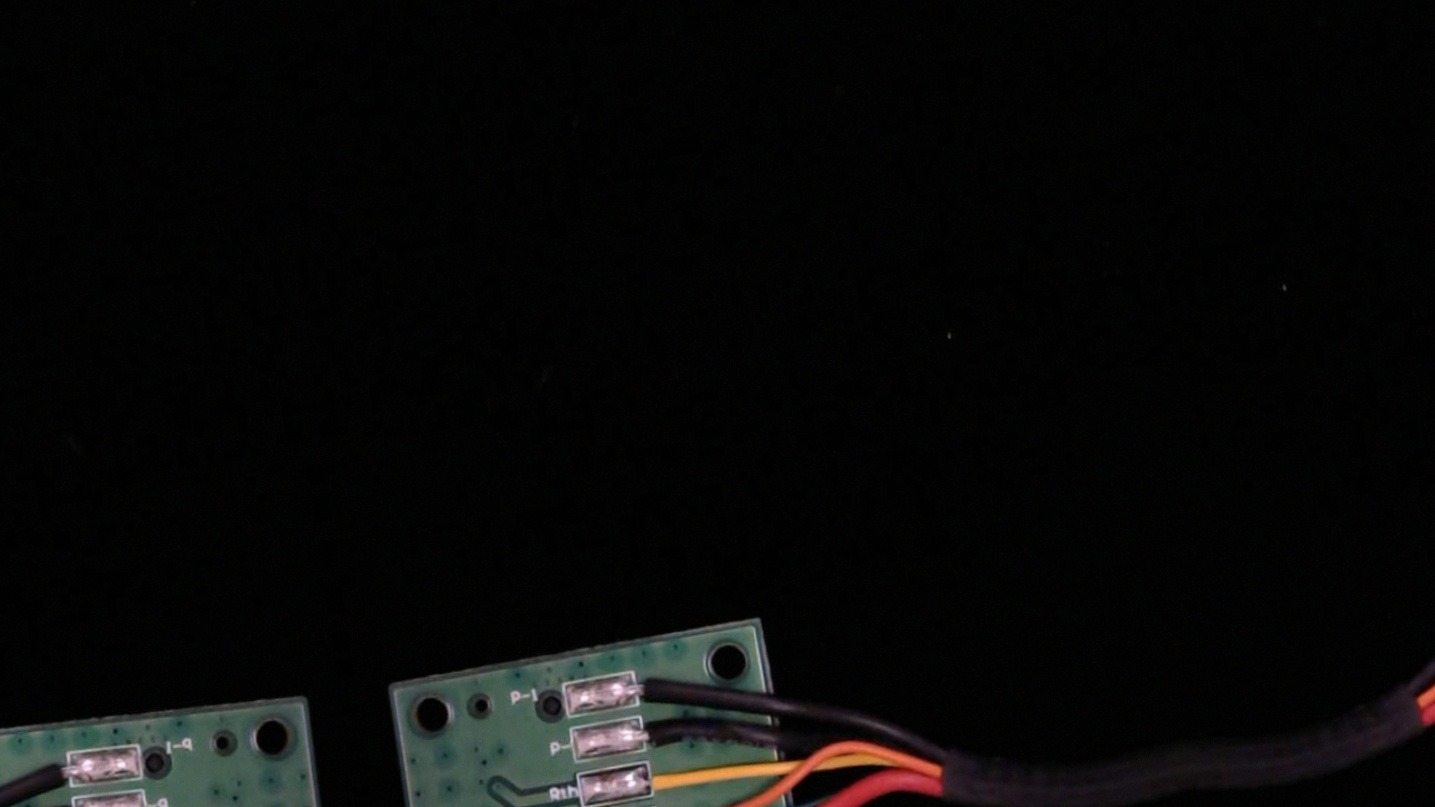Black: (622, 707, 699, 756), (18, 794, 94, 807)
Black1: (9, 749, 89, 798), (615, 662, 696, 710)
Orange: (639, 798, 715, 807)
Yellow: (629, 756, 708, 803)
